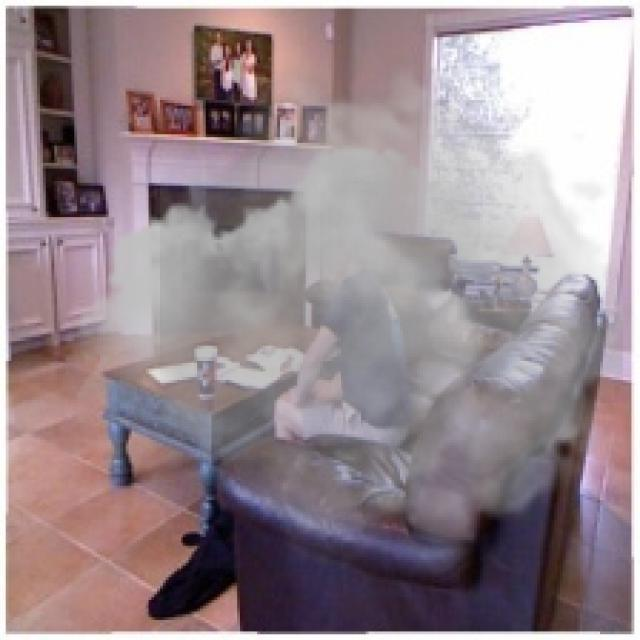Smoke: (66, 49, 623, 578)
